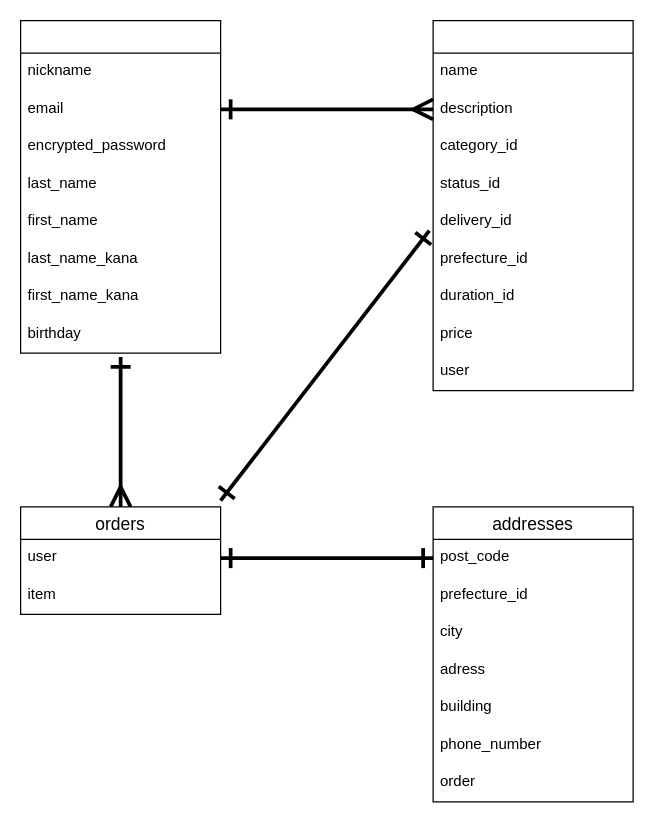
This 654x823 diagram has some shape labels left out. The shapes that lost their labels are listed below. From the top down, each one's box as (x1, y1, x2, y2) in pixels, then its label:
(19, 19, 221, 353): users
(432, 19, 633, 391): items
